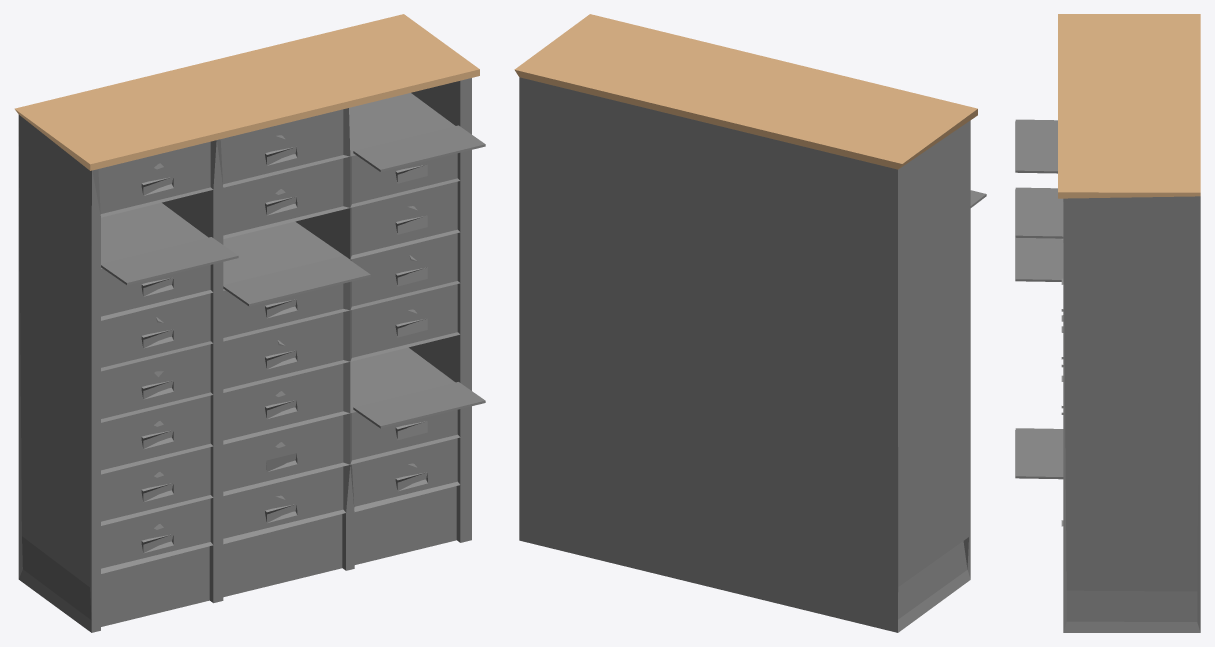
The model's file is armoire_industrielle.fbx.
3 views of the same model, side by side, from view 1: azimuth 30°, elevation 25°; view 2: azimuth 150°, elevation 25°; view 3: azimuth 270°, elevation 25° (orthographic). The views are drawn at different scales.
Visible parts, largest first — view 1: Cube.023; view 2: Cube.023; view 3: Cube.023.
Boxes of the visible parts, x1,y1,x2,y2 form: Cube.023: [14, 14, 485, 632]; Cube.023: [514, 14, 986, 632]; Cube.023: [1015, 14, 1200, 632].
Bounding box in the file's own units: 123 × 142 × 53.77.
